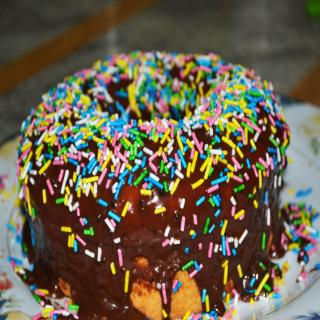Cake: (17, 49, 290, 320)
Doughnut: (20, 59, 306, 320)
